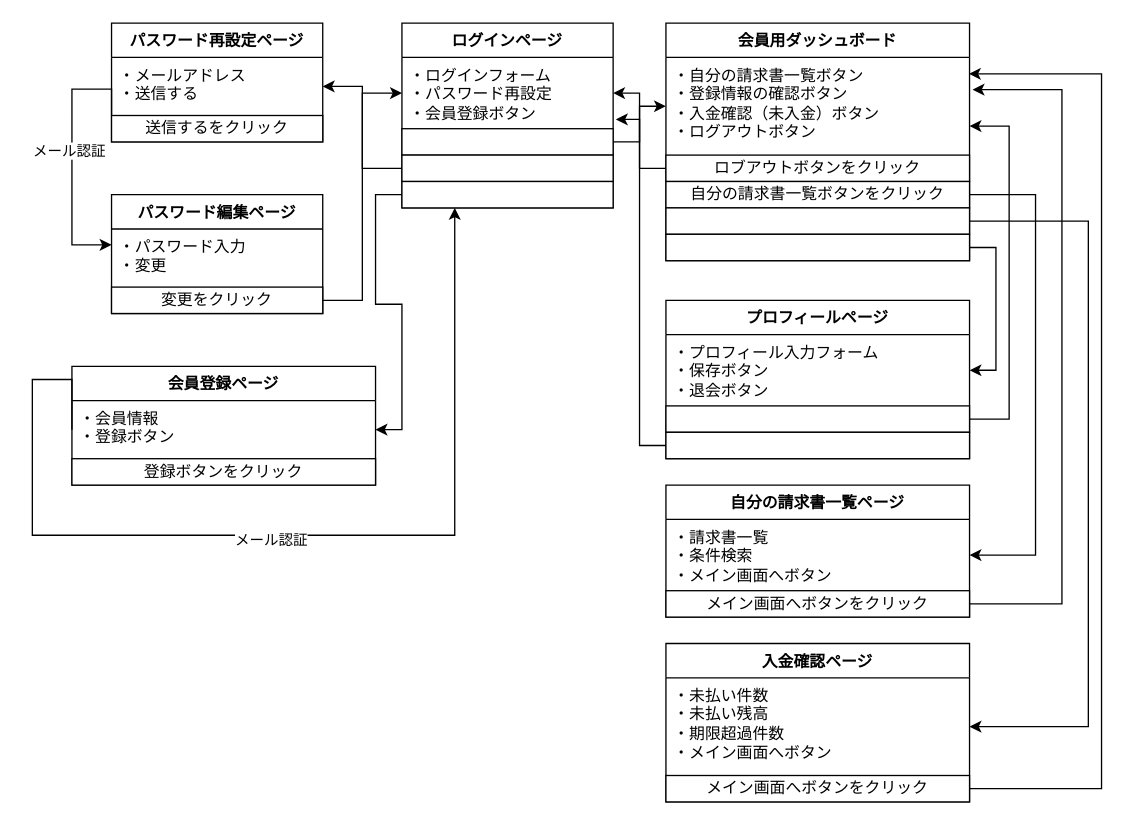
Some shapes in this 1135 by 825 pixel diagram are drawn without their labels. Each missing label, with the centre of its shape:
"パスワード再設定をクリック" belongs at pixel 507 168.
"ログイン" belongs at pixel 507 141.
"会員登録ボタンをクリック" belongs at pixel 507 194.
"保存ボタンをクリック" belongs at pixel 817 418.
"入金確認ボタンをクリック" belongs at pixel 817 220.
"登録情報の確認ボタンをクリック" belongs at pixel 817 247.
"退会ボタンをクリック" belongs at pixel 817 445.
